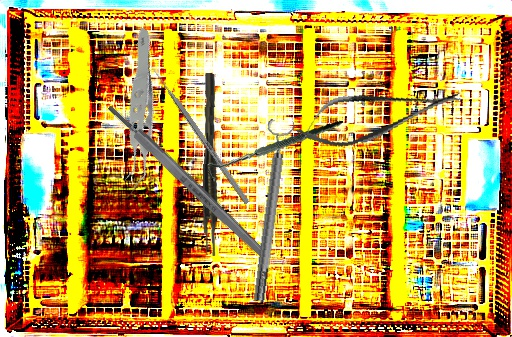Fixation Ring: (242, 118, 298, 304)
Hook Surgical: (206, 103, 343, 199)
Micro Scissor: (290, 73, 468, 157)
Pusher: (147, 61, 250, 205)
Scalpel Handle: (105, 101, 272, 264)
Tissue Forceps: (58, 25, 215, 197), (201, 73, 221, 256)
